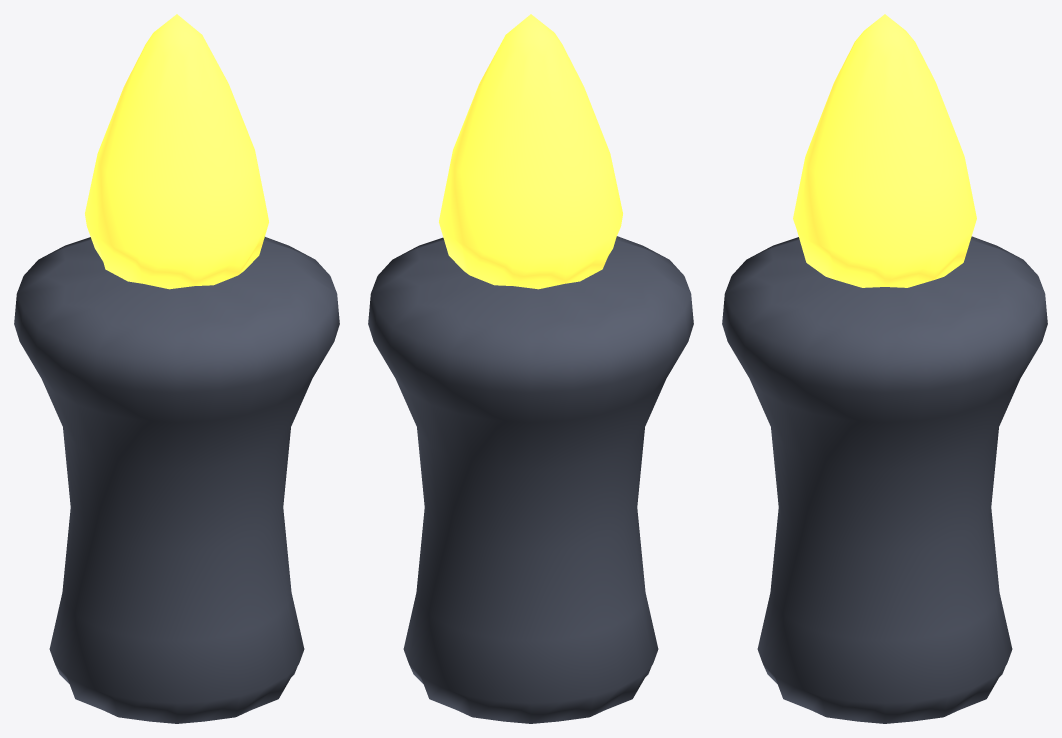
File: brazier.glb
3 renders of one model, left to right at view 1: azimuth 30°, elevation 25°; view 2: azimuth 150°, elevation 25°; view 3: azimuth 270°, elevation 25°, orthographic.
Visible parts, largest first — view 1: Pedestal, Flame; view 2: Pedestal, Flame; view 3: Pedestal, Flame.
Boxes of the visible parts, x1,y1,x2,y2 form: Pedestal: (14,237,339,723); Flame: (85,14,268,289); Pedestal: (368,236,693,723); Flame: (439,14,622,289); Pedestal: (722,236,1047,723); Flame: (793,14,976,287).
Bounding box in the file's own units: 0.7515 × 1.72 × 0.7515.
Materials: 2 (2 with a texture image).
